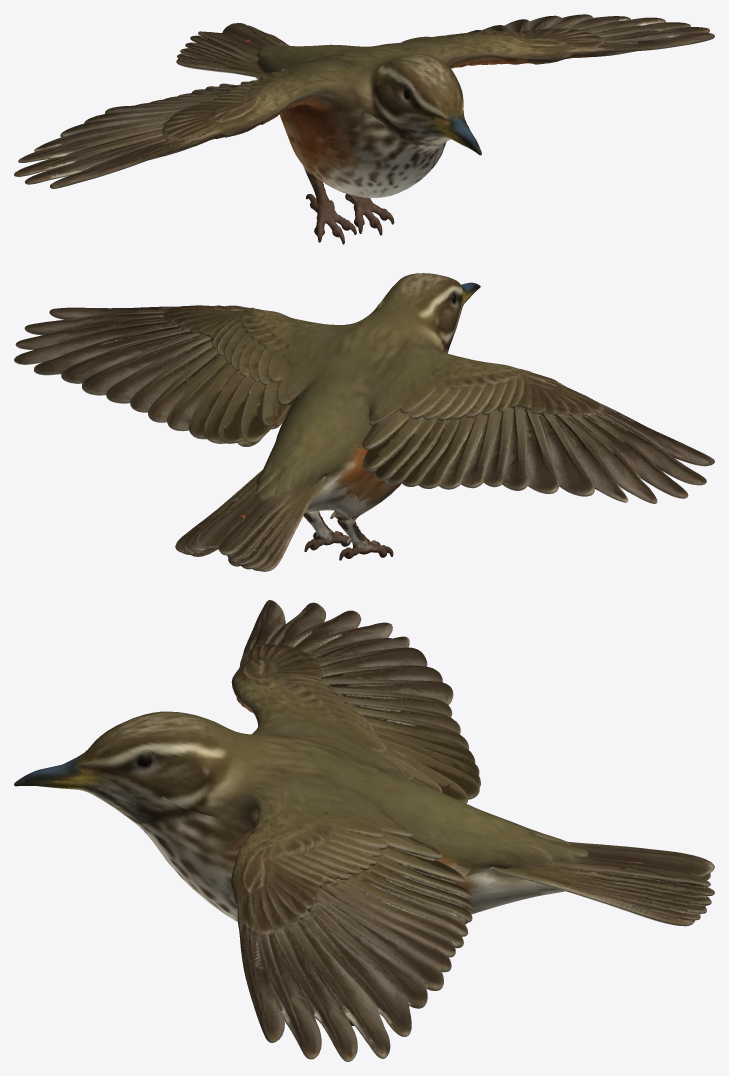
File: Turdus_iliacus.glb
3 views of the same model, one above another, from view 1: azimuth 30°, elevation 25°; view 2: azimuth 150°, elevation 25°; view 3: azimuth 270°, elevation 25° (orthographic). The views are drawn at different scales.
Visible parts, largest first — view 1: orient; view 2: orient; view 3: orient.
Boxes of the visible parts, <box> form: orient: <box>14,14,714,244</box>; orient: <box>14,273,714,571</box>; orient: <box>14,600,714,1061</box>.
Size of the model in its own units: 0.4999 by 0.1551 by 0.3391.
1 material, 1 textured.
